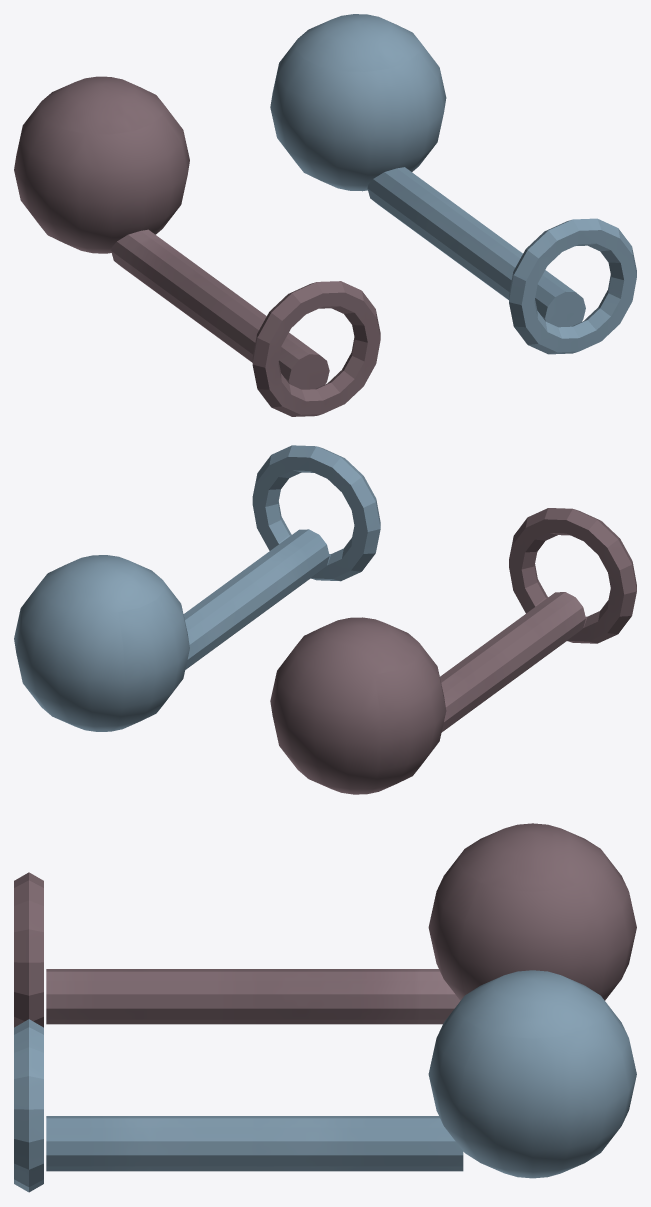
File: TY37_Rattle.glb
3 views of the same model, one above another, from view 1: azimuth 30°, elevation 25°; view 2: azimuth 150°, elevation 25°; view 3: azimuth 270°, elevation 25° (orthographic). The views are drawn at different scales.
Parts seen in each view (by area): view 1: TY37_Rattle; view 2: TY37_Rattle; view 3: TY37_Rattle.
Part boxes in pixels (x1,y1,x2,y2): TY37_Rattle: (14, 14, 636, 416); TY37_Rattle: (14, 445, 636, 794); TY37_Rattle: (14, 823, 636, 1192).
Size of the model in its own units: 0.1784 by 0.0725 by 0.2.
2 materials, 2 textured.
